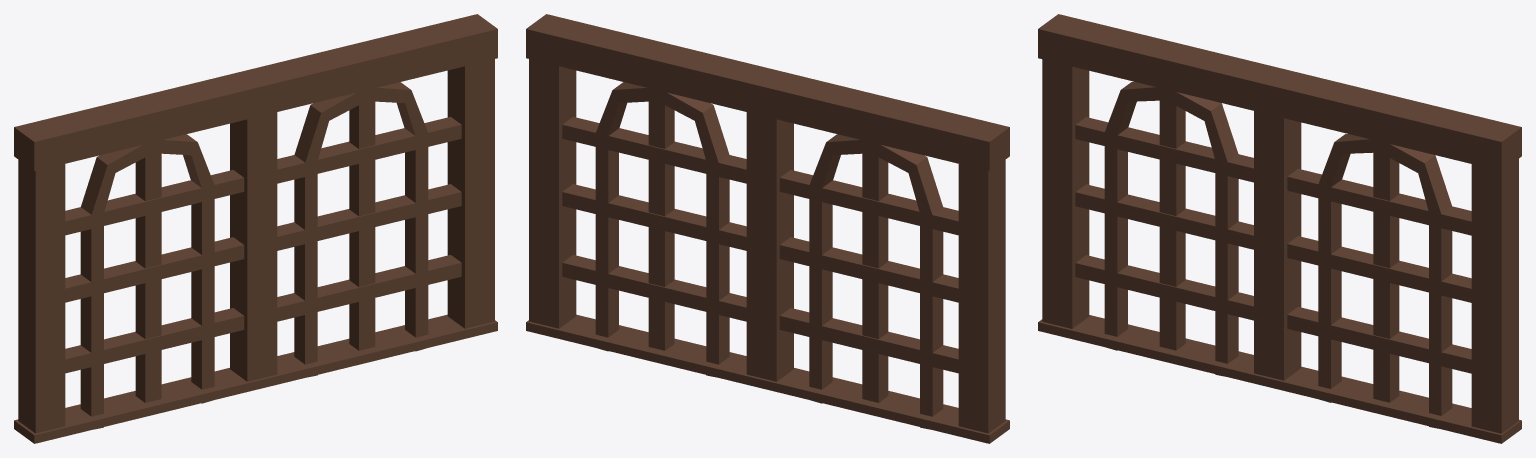
Rendered from Window Short 01.FBX.
The picture shows the model from 3 angles, left to right: view 1: azimuth 30°, elevation 25°; view 2: azimuth 150°, elevation 25°; view 3: azimuth 330°, elevation 25°; orthographic projection.
Visible parts, largest first — view 1: Window Short 01; view 2: Window Short 01; view 3: Window Short 01.
Part boxes in pixels (x1=…): Window Short 01: x1=14, y1=14, x2=497, y2=443; Window Short 01: x1=526, y1=14, x2=1009, y2=443; Window Short 01: x1=1038, y1=14, x2=1521, y2=443.
Bounding box in the file's own units: 403 × 255 × 30.76.
